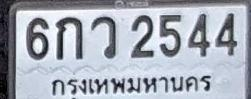2: (131, 14, 154, 58)
4: (188, 13, 209, 56), (216, 12, 236, 55)
5: (160, 14, 181, 57)
6: (26, 17, 48, 59)
A01: (56, 16, 83, 59)
A37: (90, 15, 117, 58)
BKK: (47, 72, 213, 99)
